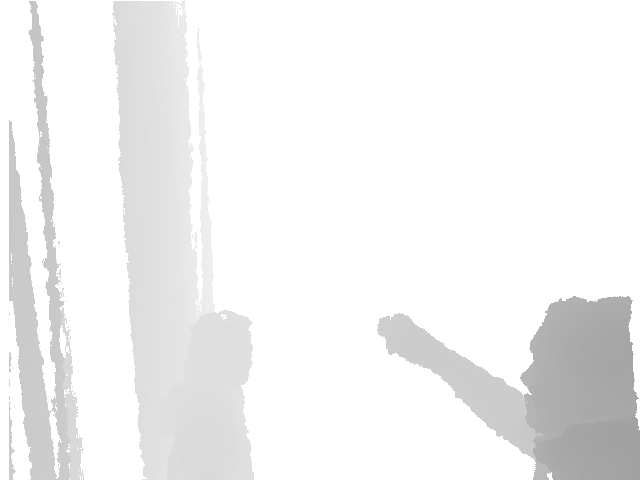head: (519, 295, 640, 430), (187, 311, 253, 382)
person: (377, 295, 640, 480), (161, 311, 256, 480)
